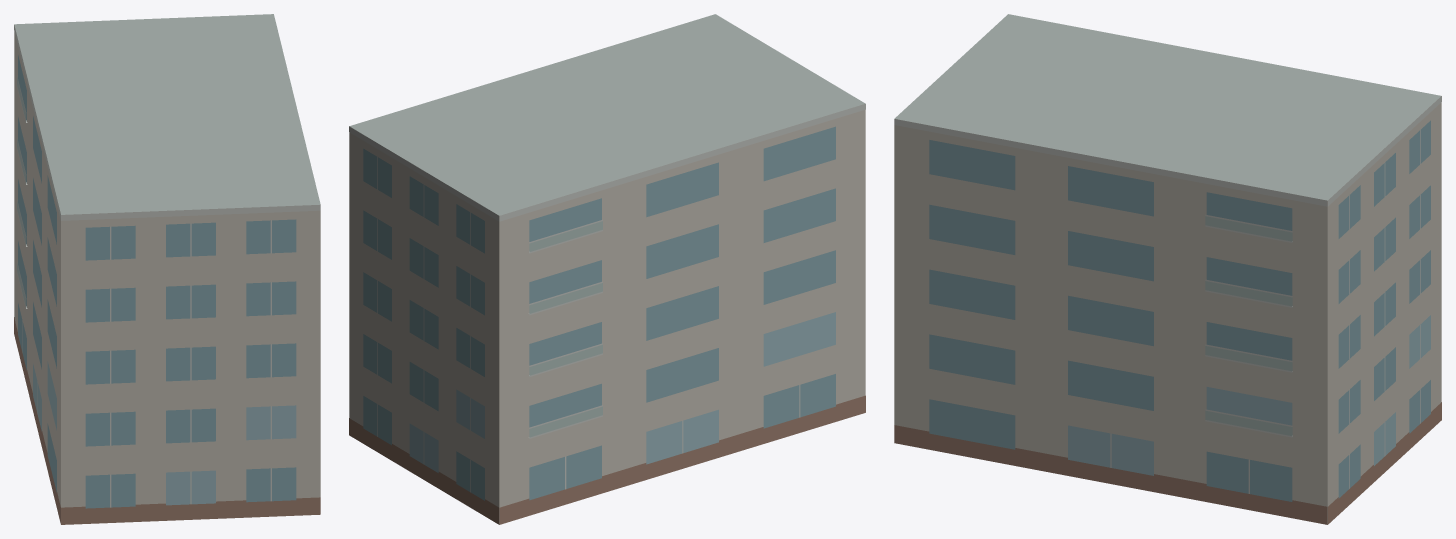
The model's file is survey-upis-32672104.glb.
3 renders of one model, left to right at view 1: azimuth 30°, elevation 25°; view 2: azimuth 150°, elevation 25°; view 3: azimuth 270°, elevation 25°, orthographic. The views are drawn at different scales.
Visible parts, largest first — view 1: survey-upis-32672104.tmp; view 2: survey-upis-32672104.tmp; view 3: survey-upis-32672104.tmp.
Part boxes in pixels (x1,y1,x2,y2): survey-upis-32672104.tmp: [14, 14, 320, 524]; survey-upis-32672104.tmp: [349, 14, 865, 524]; survey-upis-32672104.tmp: [894, 14, 1441, 524].
Bounding box in the file's own units: 15.8 × 12.8 × 19.59.
